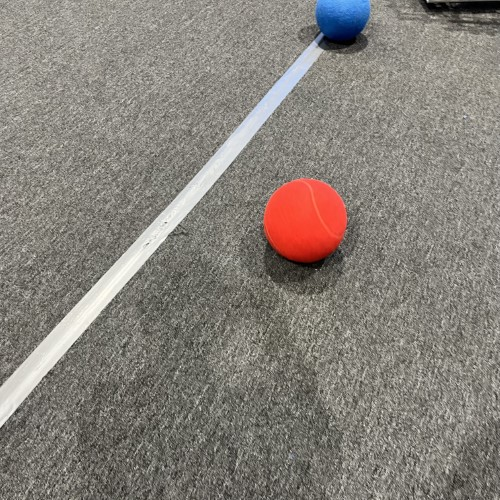blue: (313, 0, 372, 43)
red: (261, 175, 349, 266)
